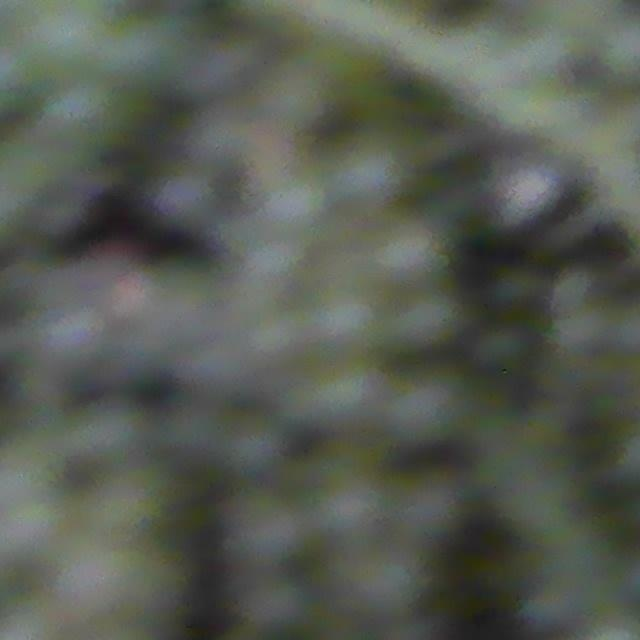SeaGrape: (380, 381, 460, 453), (28, 0, 103, 73), (340, 548, 415, 618), (239, 561, 313, 620), (229, 493, 297, 555), (323, 479, 377, 547), (248, 245, 318, 296), (262, 177, 323, 234), (392, 299, 467, 345), (328, 158, 394, 209), (377, 218, 426, 286), (404, 488, 459, 547), (323, 296, 380, 350)
